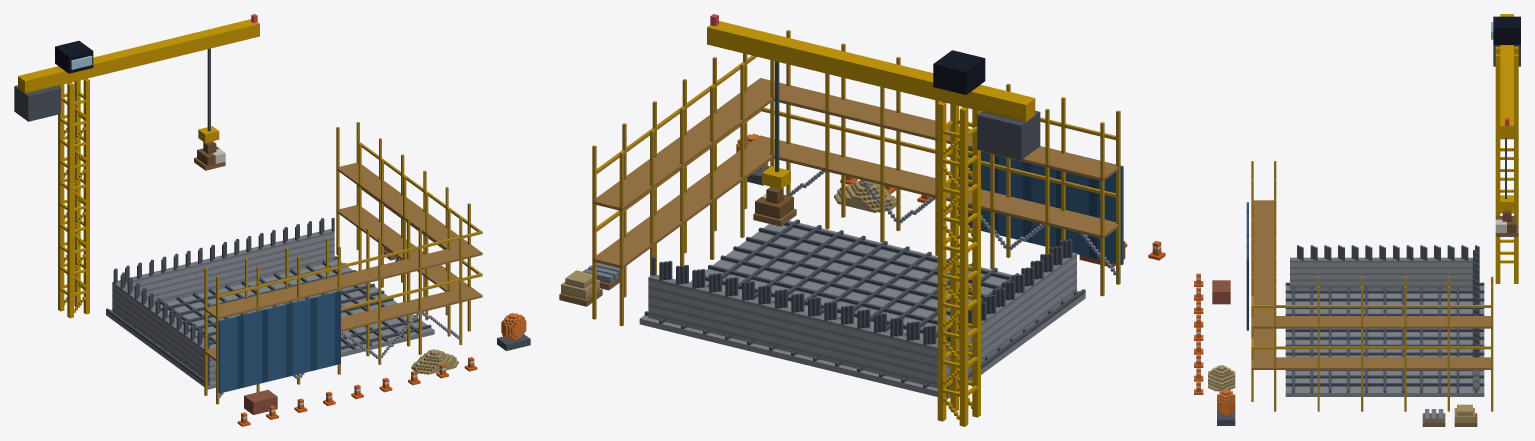
The model's file is lab_scaffold.glb.
3 renders of one model, left to right at view 1: azimuth 30°, elevation 25°; view 2: azimuth 150°, elevation 25°; view 3: azimuth 270°, elevation 25°, orthographic. The views are drawn at different scales.
Visible parts, largest first — view 1: Base; view 2: Base; view 3: Base.
Part boxes in pixels (x1=…): Base: x1=14, y1=14, x2=530, y2=426; Base: x1=559, y1=14, x2=1165, y2=426; Base: x1=1194, y1=14, x2=1520, y2=426.
Size of the model in its own units: 17.9 by 12.4 by 14.3.
